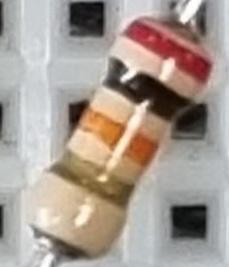Black: (103, 55, 198, 123)
Orange: (73, 105, 158, 172)
Red: (121, 16, 213, 86)
Side-Gold: (49, 148, 133, 214)
